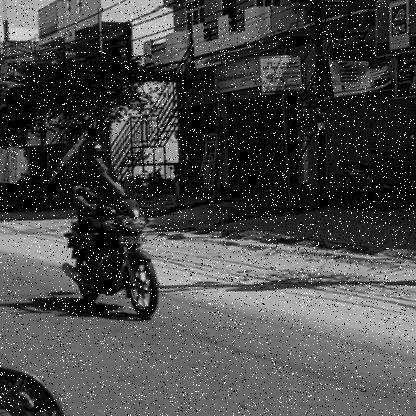motorcycle: (60, 195, 162, 322)
